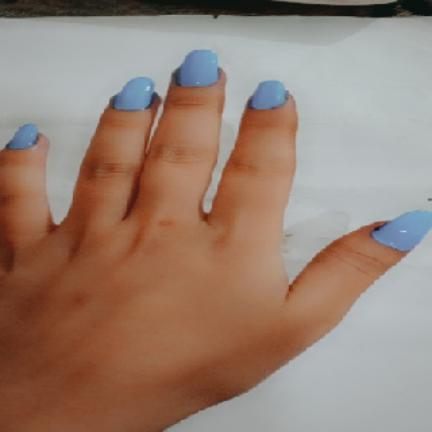Nail: (371, 211, 432, 251), (179, 50, 218, 87), (114, 76, 155, 110), (251, 80, 285, 110), (6, 124, 38, 149)
